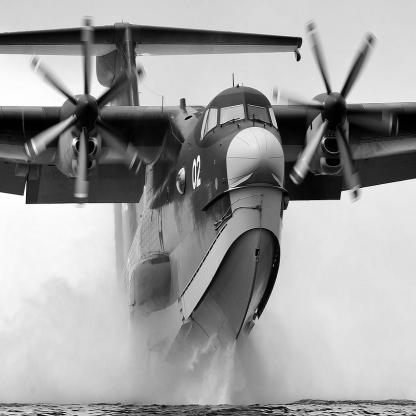US2: (1, 16, 416, 380)
